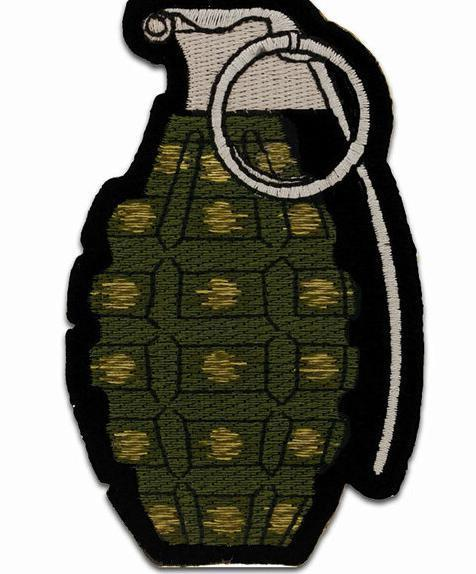Grenade: (50, 0, 428, 566)
